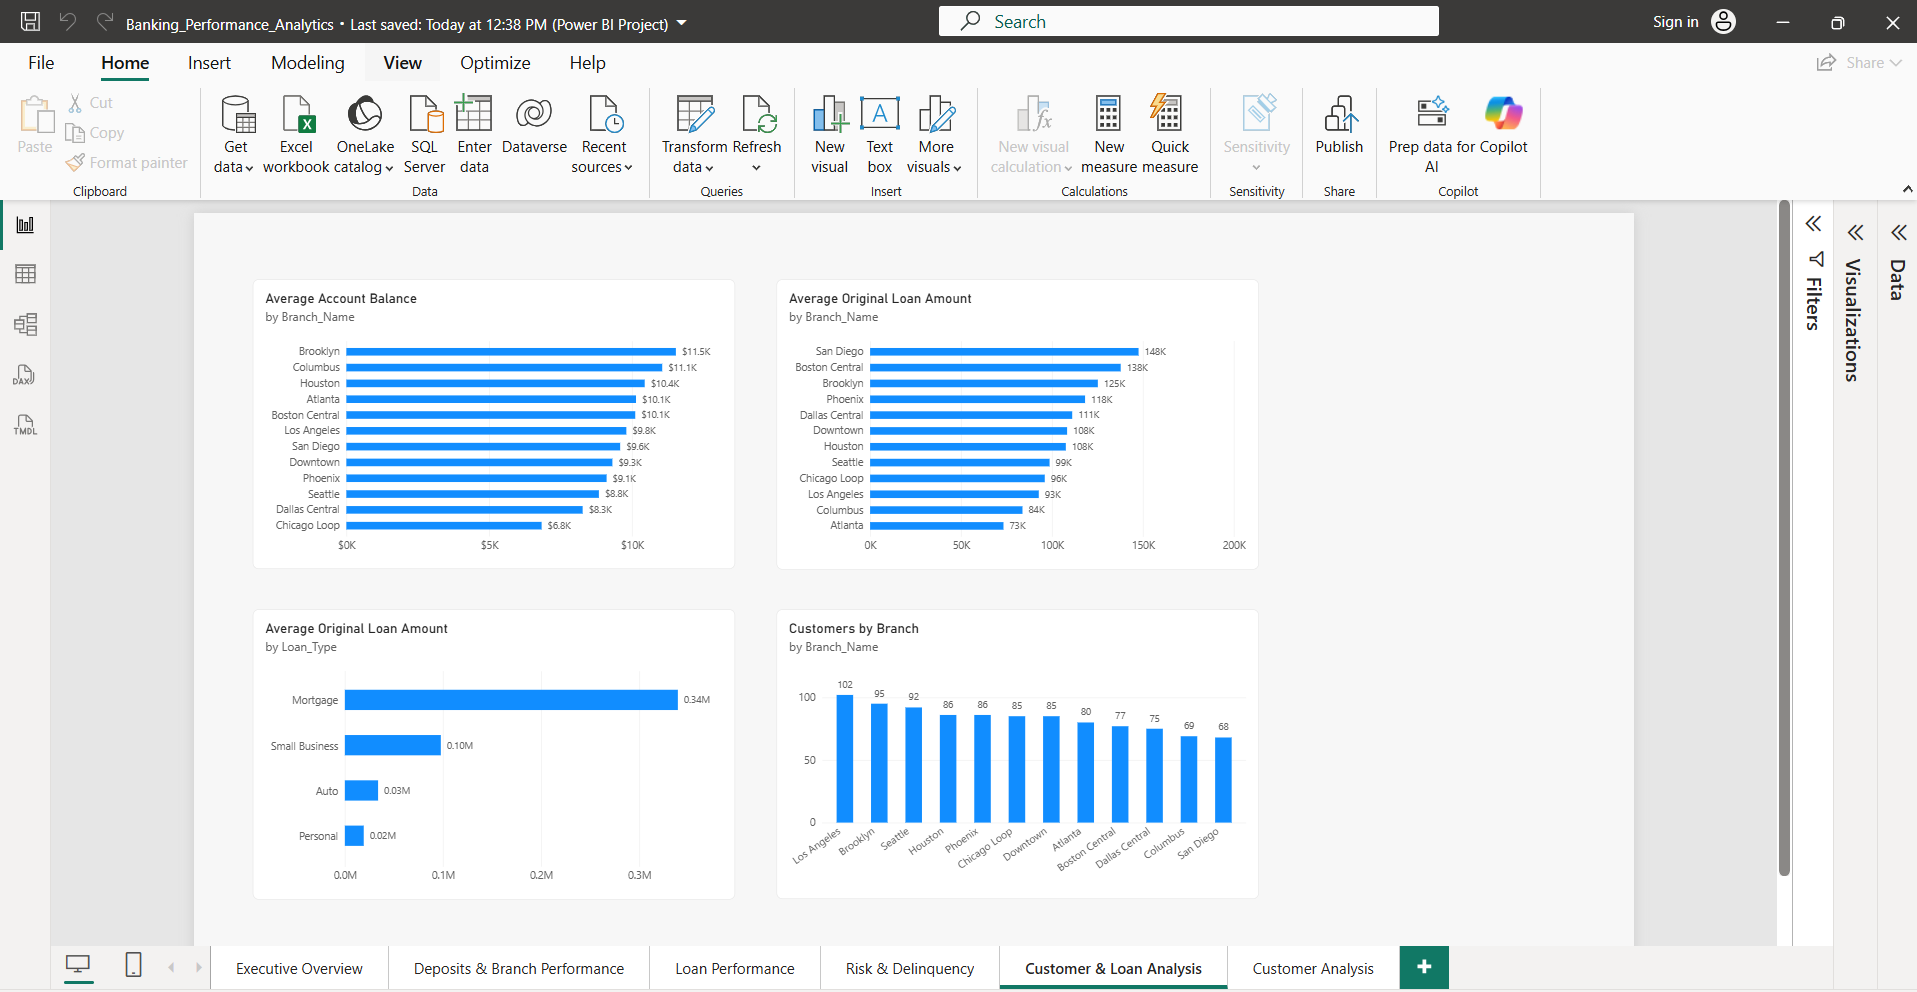

What the dashboard file says about the page in this screenshot:
{"tool":"powerbi","page":{"name":"Customer & Loan Analysis","canvas":[1920,1080],"ordinal":4},"visuals":[{"type":"clusteredBarChart","fields":{"Category":["Branches.Branch_Name"],"Y":["Accounts.Average Account Balance"]},"box":[78.3,88.3,643.3,386.7],"z":0},{"type":"clusteredBarChart","fields":{"Category":["Branches.Branch_Name"],"Y":["Accounts.Average Original Loan Amount"]},"box":[776.7,88.3,643,387],"z":1},{"type":"clusteredBarChart","fields":{"Category":["Loans.Loan_Type"],"Y":["Accounts.Average Original Loan Amount"]},"box":[78.3,528.3,643,387],"z":2},{"type":"clusteredColumnChart","fields":{"Category":["Branches.Branch_Name"],"Y":["Accounts.Customers by Branch"]},"box":[776.7,528.3,643.3,386.7],"z":3}]}

Visuals, with their boxes on the page's 1920x1080 design canvas (x1, y1, x2, y2). These are canvas units, not pixel positions in the 1917x992 screenshot, which may show the page scaled, cropped or inside an application window:
clusteredBarChart - Branches.Branch_Name x Accounts.Average Account Balance: 78, 88, 722, 475
clusteredBarChart - Branches.Branch_Name x Accounts.Average Original Loan Amount: 777, 88, 1420, 475
clusteredBarChart - Loans.Loan_Type x Accounts.Average Original Loan Amount: 78, 528, 721, 915
clusteredColumnChart - Branches.Branch_Name x Accounts.Customers by Branch: 777, 528, 1420, 915
